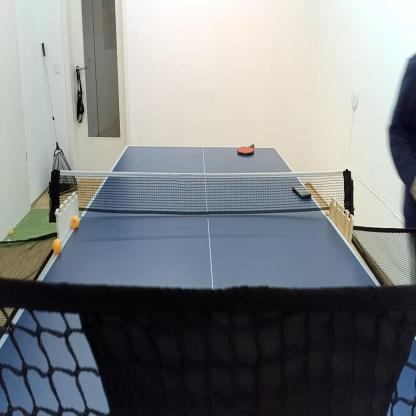Ball: (52, 239, 62, 255), (71, 216, 79, 228), (7, 238, 10, 247), (10, 230, 14, 235)
